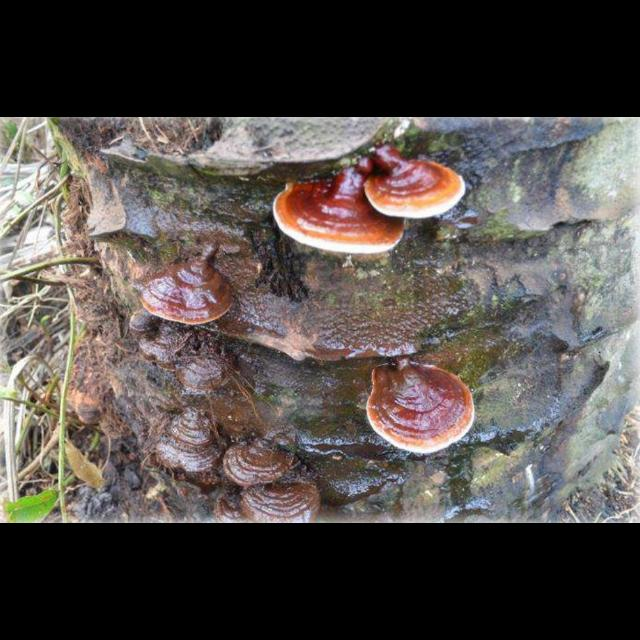ganoderma: (272, 156, 407, 257), (366, 364, 477, 457), (129, 310, 238, 395), (361, 148, 466, 221), (139, 254, 232, 328), (155, 410, 225, 477), (221, 437, 300, 490), (239, 476, 323, 521)
